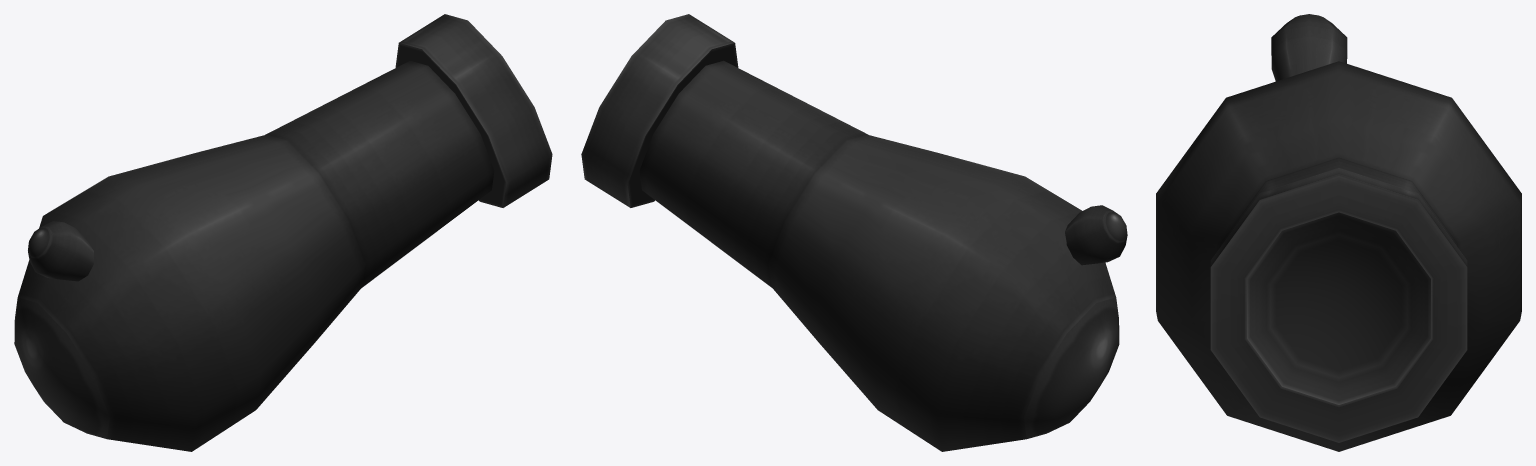
The model's file is Cannon_lvl2.fbx.
The picture shows the model from 3 angles, left to right: view 1: azimuth 30°, elevation 25°; view 2: azimuth 150°, elevation 25°; view 3: azimuth 270°, elevation 25°; orthographic projection. The views are drawn at different scales.
Visible parts, largest first — view 1: pCylinder10; view 2: pCylinder10; view 3: pCylinder10.
Part boxes in pixels (bbox=[...]): pCylinder10: bbox=[14, 14, 552, 451]; pCylinder10: bbox=[581, 14, 1127, 451]; pCylinder10: bbox=[1156, 14, 1521, 451].
Bounding box in the file's own units: 7.97 × 5.22 × 3.62.
